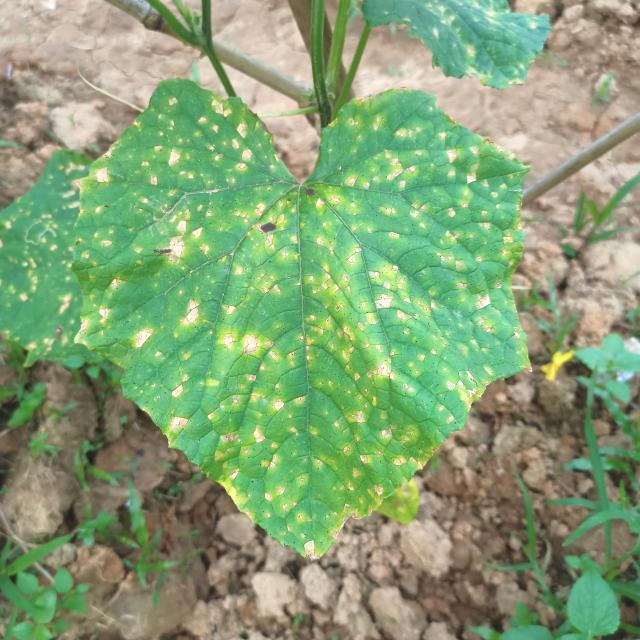disease_cucumber: (96, 103, 518, 522), (0, 163, 97, 355)
